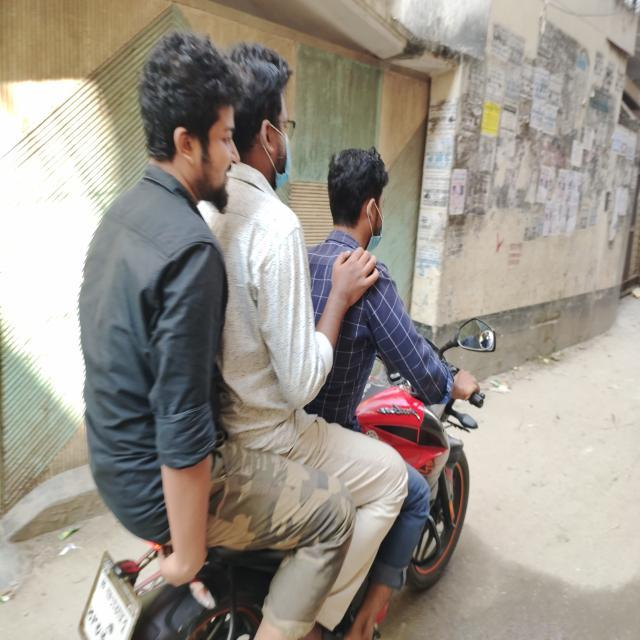Overloading: (44, 33, 494, 526)
